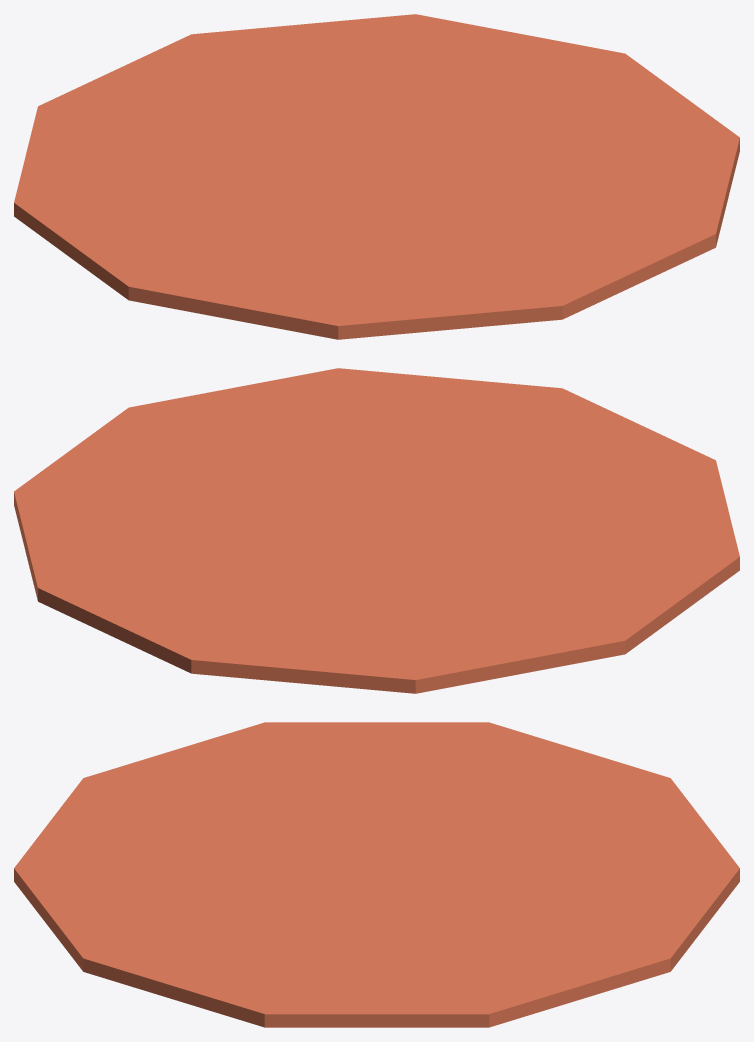
Rendered from carpet_1.fbx.
3 renders of one model, top to bottom at view 1: azimuth 30°, elevation 25°; view 2: azimuth 150°, elevation 25°; view 3: azimuth 270°, elevation 25°, orthographic. The views are drawn at different scales.
Parts seen in each view (by area): view 1: Carpet_3; view 2: Carpet_3; view 3: Carpet_3.
Part boxes in pixels (bbox=[...]): Carpet_3: bbox=[14, 14, 739, 339]; Carpet_3: bbox=[14, 368, 739, 693]; Carpet_3: bbox=[14, 722, 739, 1027].
Bounding box in the file's own units: 278 × 5.96 × 292.
